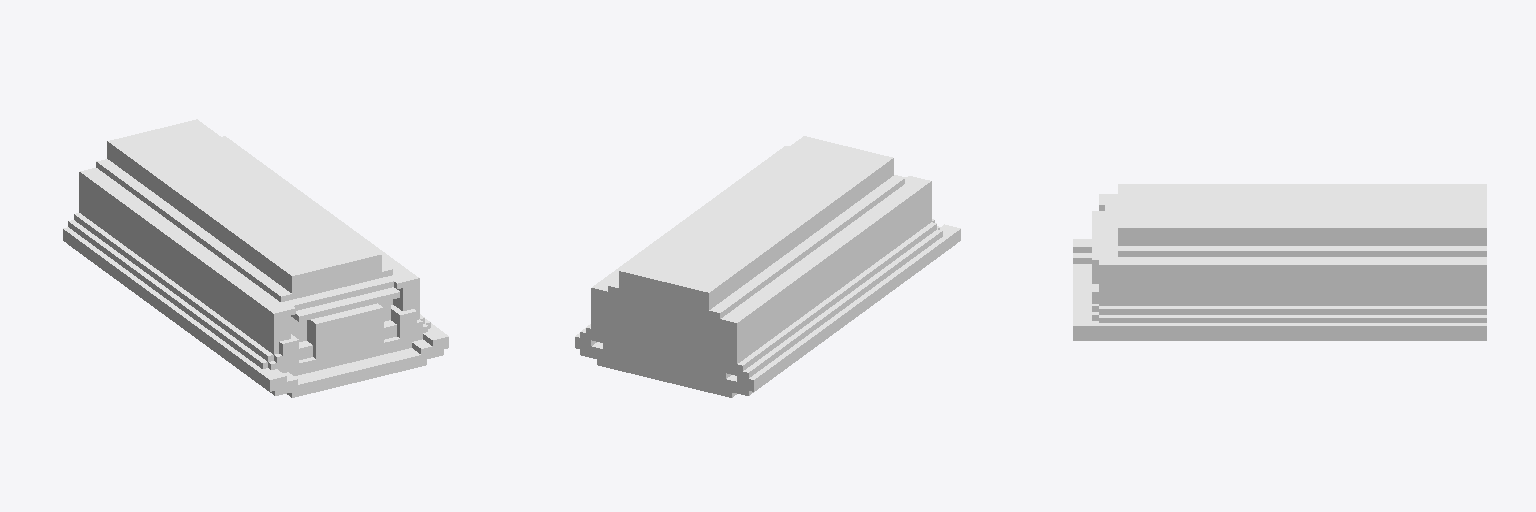
Rendered from ShipVoxel.obj.
3 views of the same model, side by side, from view 1: azimuth 30°, elevation 25°; view 2: azimuth 150°, elevation 25°; view 3: azimuth 270°, elevation 25° (orthographic).
Parts seen in each view (by area): view 1: object 1; view 2: object 1; view 3: object 1.
Part boxes in pixels (left/top/right/bottom): object 1: left=63, top=119, right=448, bottom=397; object 1: left=575, top=136, right=960, bottom=397; object 1: left=1073, top=184, right=1486, bottom=340.
Bounding box in the file's own units: 3.2 × 1.7 × 6.4.